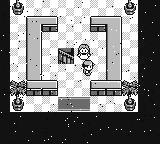main: (82, 61, 94, 75)
no-caminable: (1, 0, 160, 143), (26, 16, 41, 79), (106, 18, 121, 79), (122, 81, 138, 112), (10, 81, 26, 112), (26, 81, 57, 95), (90, 81, 121, 95), (123, 0, 138, 15), (42, 17, 58, 31), (90, 17, 106, 31), (11, 0, 24, 15)
npc: (77, 45, 91, 59)
puerta: (56, 97, 92, 111), (58, 48, 74, 64)
